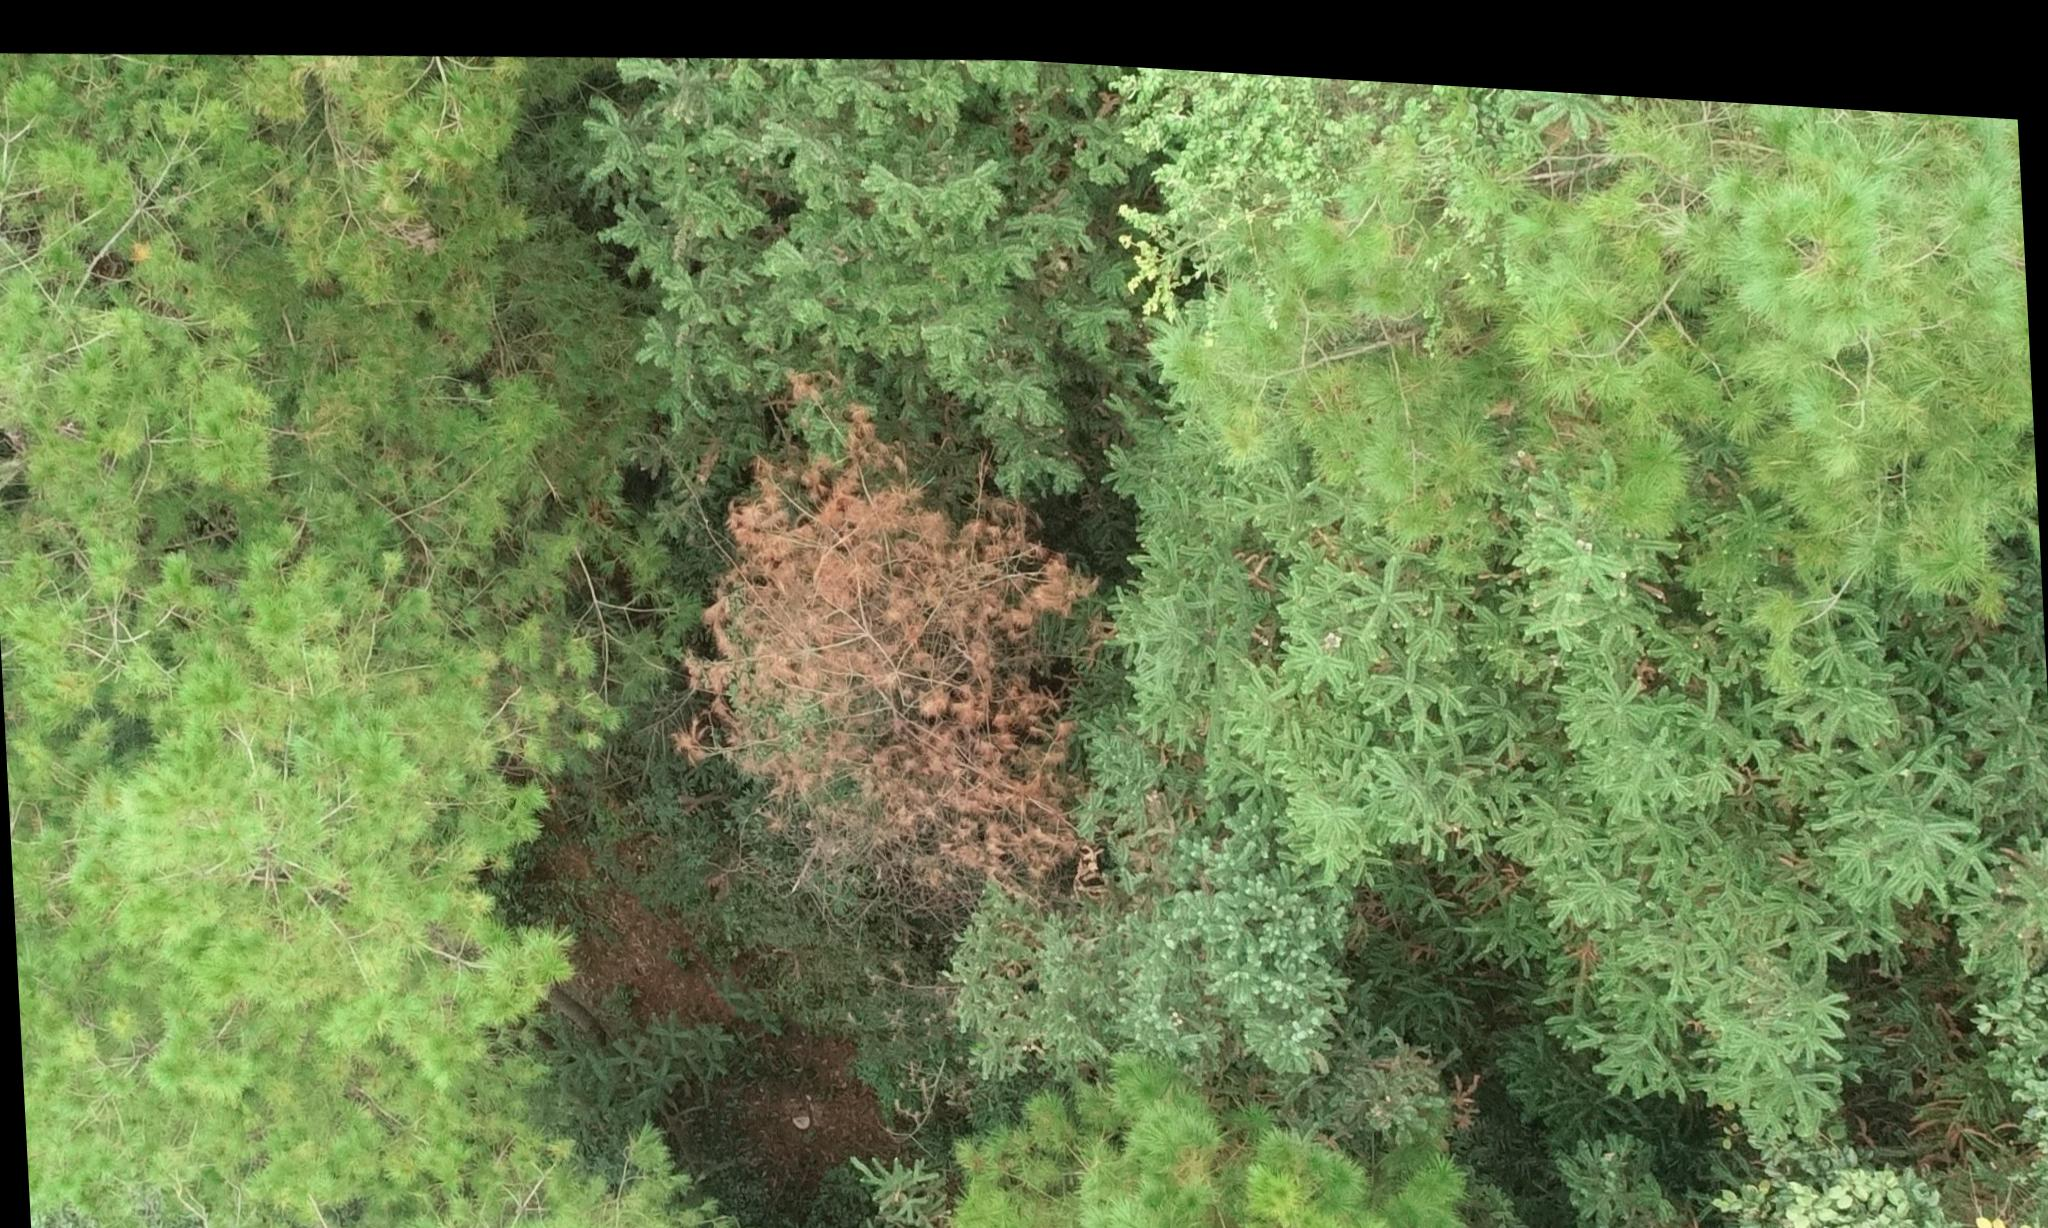heavy: (655, 364, 1110, 937)
